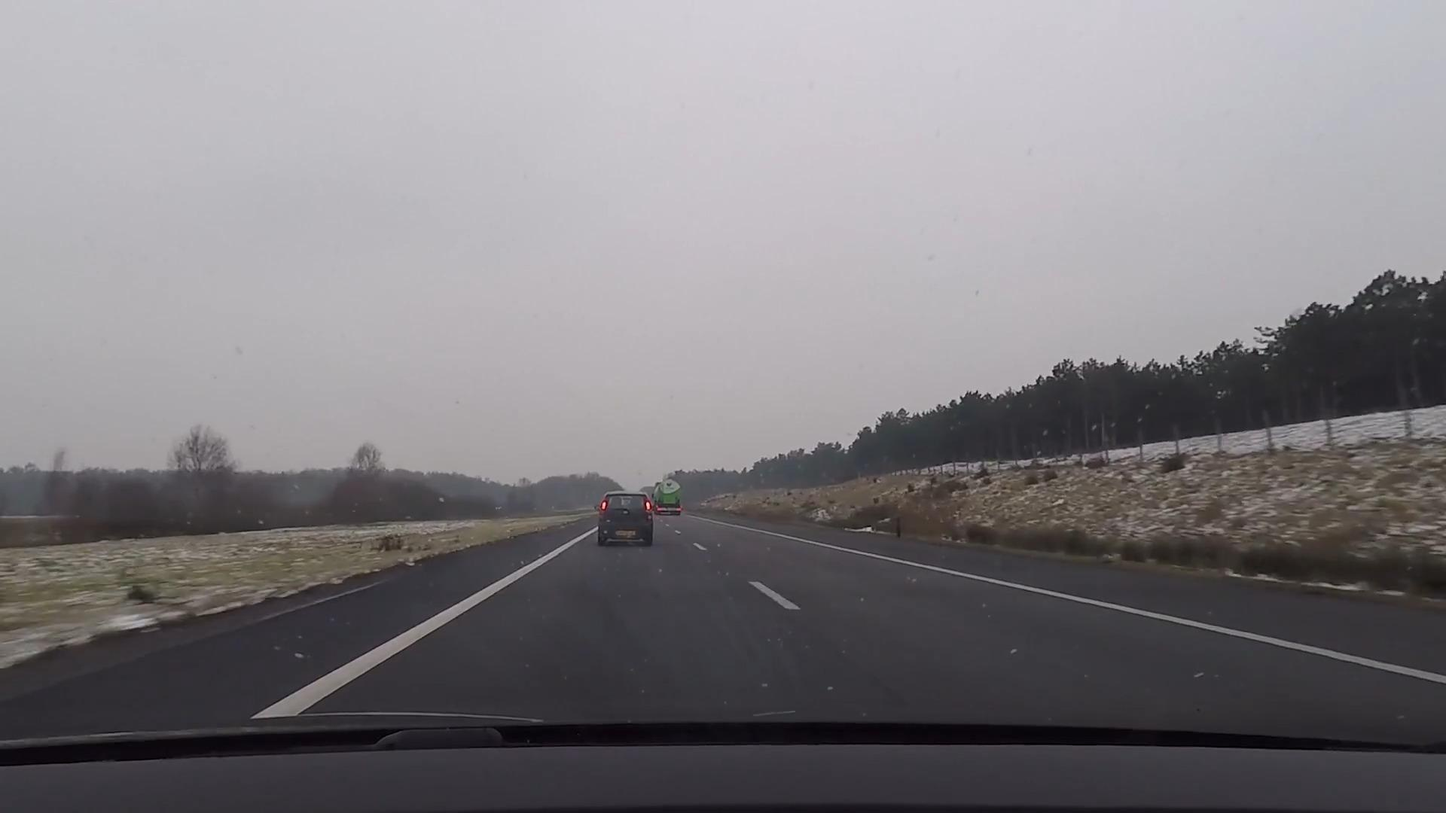Snow: (699, 405, 1446, 598), (0, 517, 593, 668)
dry: (0, 508, 1446, 734)
